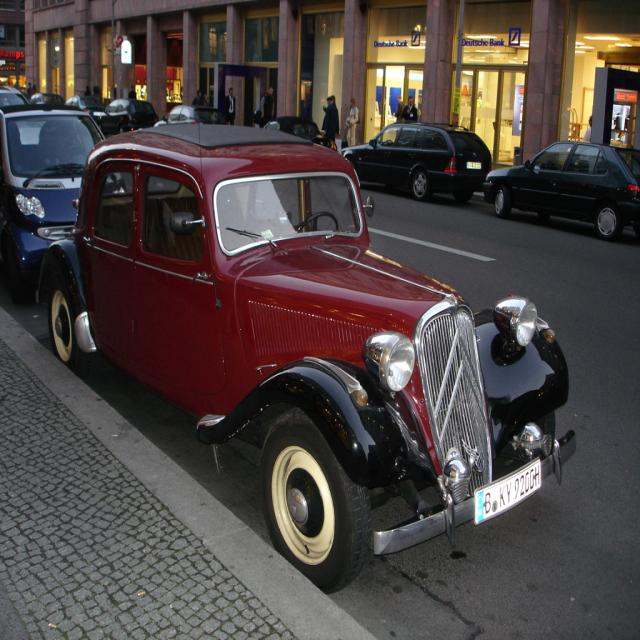Car: (0, 85, 578, 600), (483, 139, 640, 238), (342, 123, 492, 202)
